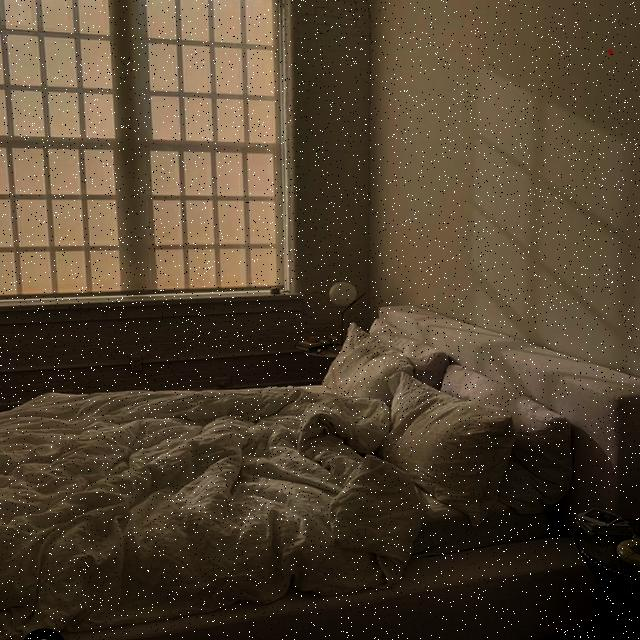bed: (0, 314, 574, 640)
